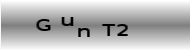2: (115, 23, 129, 37)
G: (35, 18, 51, 32)
T: (100, 22, 116, 37)
n: (76, 27, 91, 38)
u: (60, 16, 74, 27)
